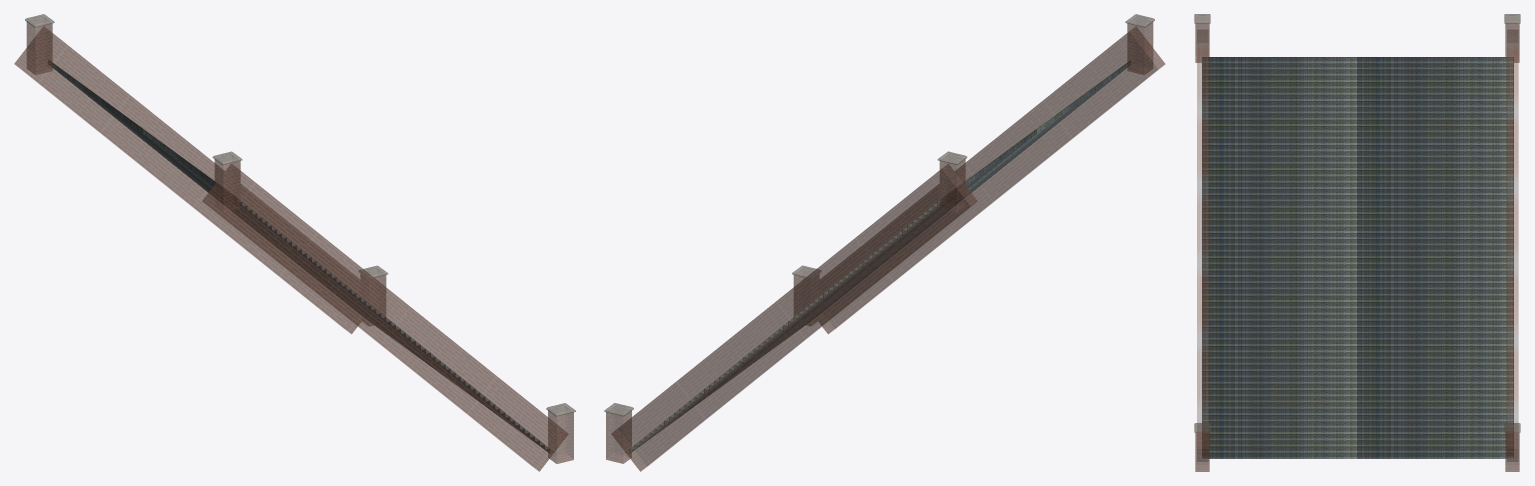
File: StoneStairs.fbx
3 renders of one model, left to right at view 1: azimuth 30°, elevation 25°; view 2: azimuth 150°, elevation 25°; view 3: azimuth 270°, elevation 25°, orthographic. The views are drawn at different scales.
Parts seen in each view (by area): view 1: Cube.002; view 2: Cube.002; view 3: Cube.002.
Part boxes in pixels (x1,y1,x2,y2): Cube.002: (14,14,575,471); Cube.002: (604,14,1165,471); Cube.002: (1194,14,1520,471).
Size of the model in its own units: 73.7 by 74.82 by 69.07.
